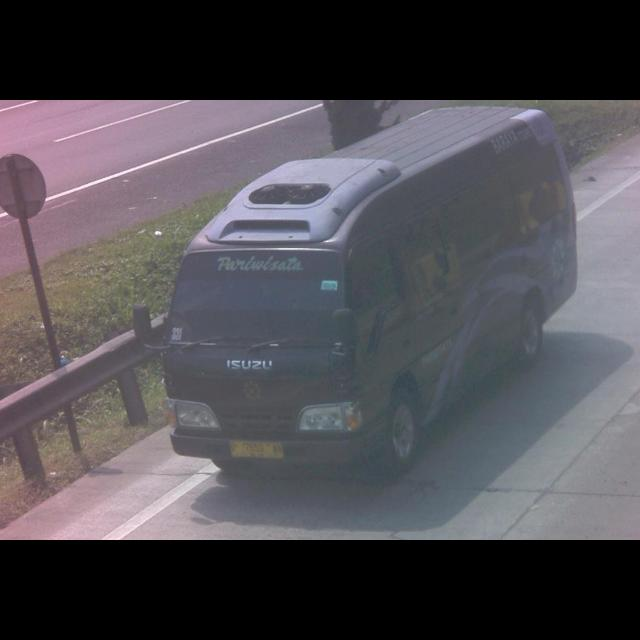plate: (228, 440, 288, 460)
